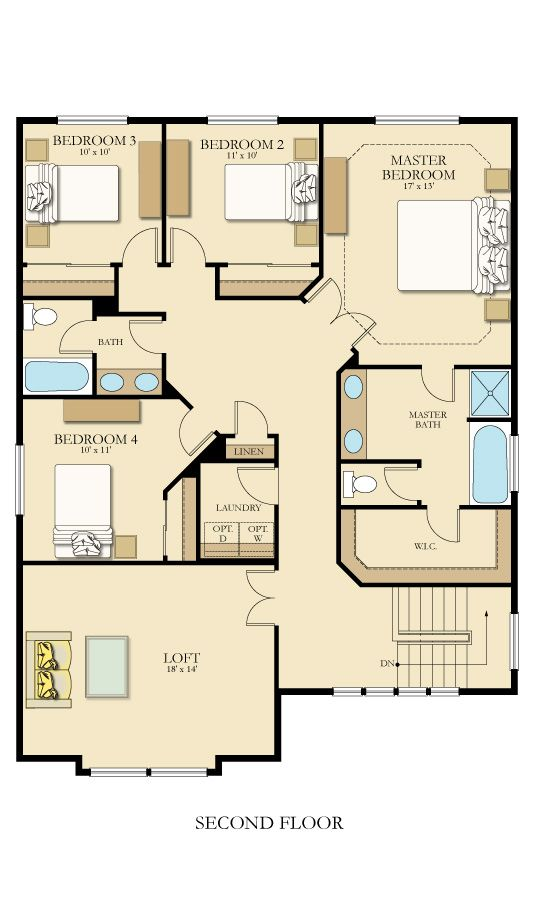door: (241, 568, 271, 630), (417, 370, 458, 407), (230, 397, 271, 434), (120, 318, 161, 355), (53, 319, 94, 356), (118, 225, 159, 262), (167, 226, 208, 263), (423, 510, 465, 545), (382, 465, 417, 503)
room: (320, 117, 518, 369), (15, 394, 171, 566), (162, 116, 323, 279), (336, 365, 517, 503), (15, 116, 166, 269), (16, 295, 166, 400)
window: (89, 767, 206, 777), (374, 114, 457, 125), (13, 444, 25, 516), (507, 434, 519, 493), (507, 612, 519, 671), (56, 116, 128, 125), (206, 116, 278, 125)
